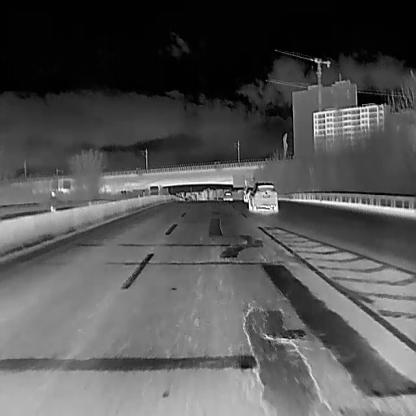car: (246, 182, 277, 210), (243, 186, 252, 202), (222, 190, 233, 200)
truck: (148, 184, 170, 198)
